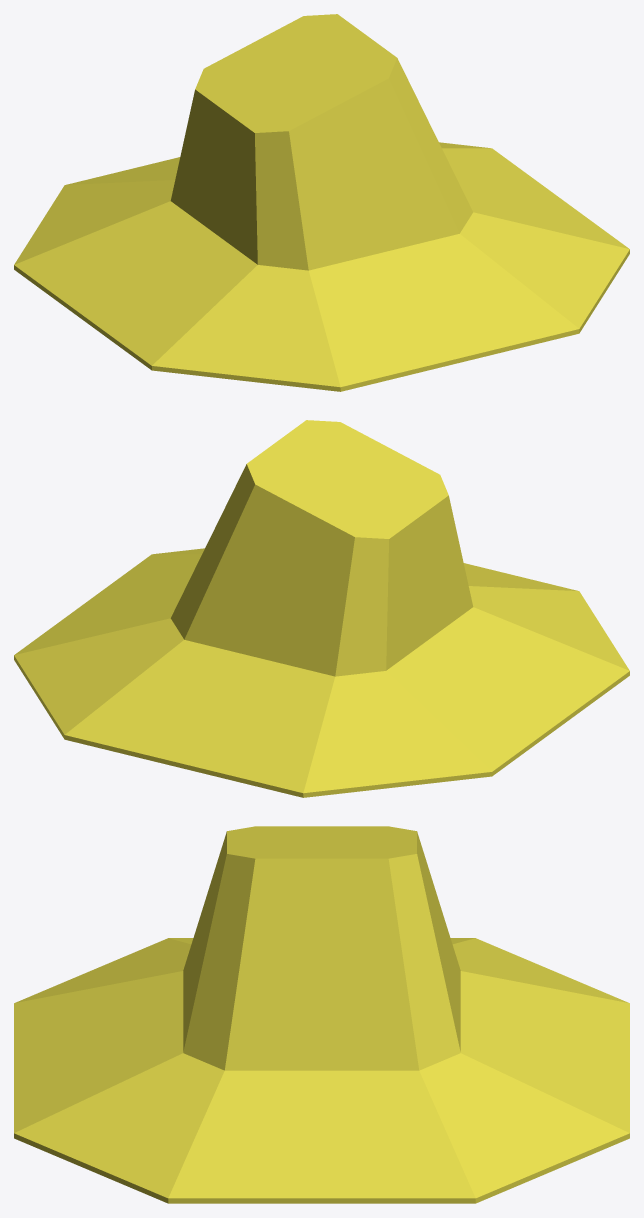
File: SimpleHat.fbx
The picture shows the model from 3 angles, top to bottom: view 1: azimuth 30°, elevation 25°; view 2: azimuth 150°, elevation 25°; view 3: azimuth 270°, elevation 25°; orthographic projection. The views are drawn at different scales.
Parts seen in each view (by area): view 1: Cube; view 2: Cube; view 3: Cube.
Boxes of the visible parts, left/top/right/bottom form: Cube: left=14, top=14, right=629, bottom=391; Cube: left=14, top=420, right=629, bottom=797; Cube: left=14, top=826, right=629, bottom=1203.
Size of the model in its own units: 202 by 86.84 by 202.
